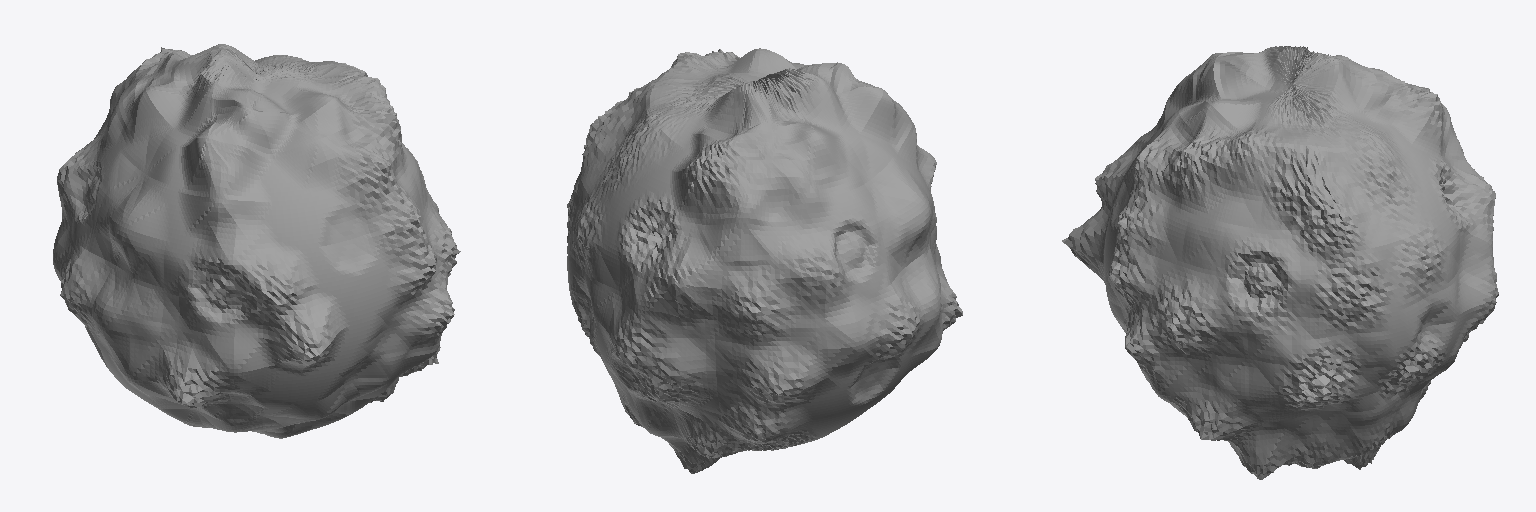
File: bloby-asteroid.obj
3 renders of one model, left to right at view 1: azimuth 30°, elevation 25°; view 2: azimuth 150°, elevation 25°; view 3: azimuth 270°, elevation 25°, orthographic.
Visible parts, largest first — view 1: Sphere; view 2: Sphere; view 3: Sphere.
Part boxes in pixels (x1,y1,x2,y2): Sphere: (53, 44, 460, 438); Sphere: (567, 48, 962, 473); Sphere: (1062, 46, 1498, 479).
Size of the model in its own units: 10.44 by 11.58 by 11.63.